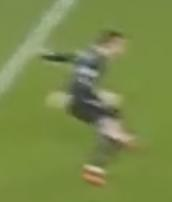goalkeeper: (32, 23, 147, 193)
